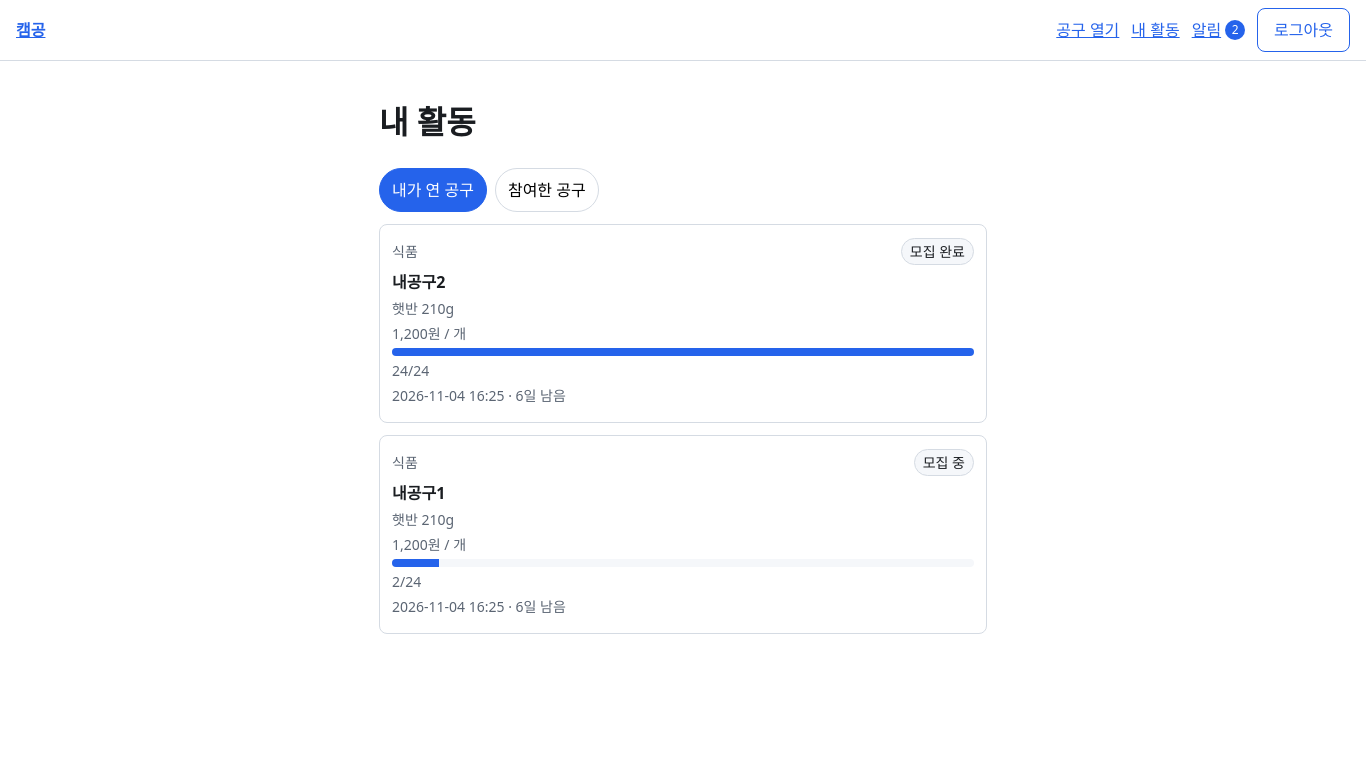
Test: 내 활동 (US5) › 28. 탭1은 내가 연 공구 2개, 탭2는 참여한 공구 5개(내가 연 것 포함), 최신 개설순 + 상태 뱃지
Expected: the heading "내 활동" is shown, [379, 100, 476, 143]
Expected: the heading "내공구2" is shown, [392, 271, 445, 293]
Click the tab "참여한 공구": [547, 190] box [495, 168, 599, 212]
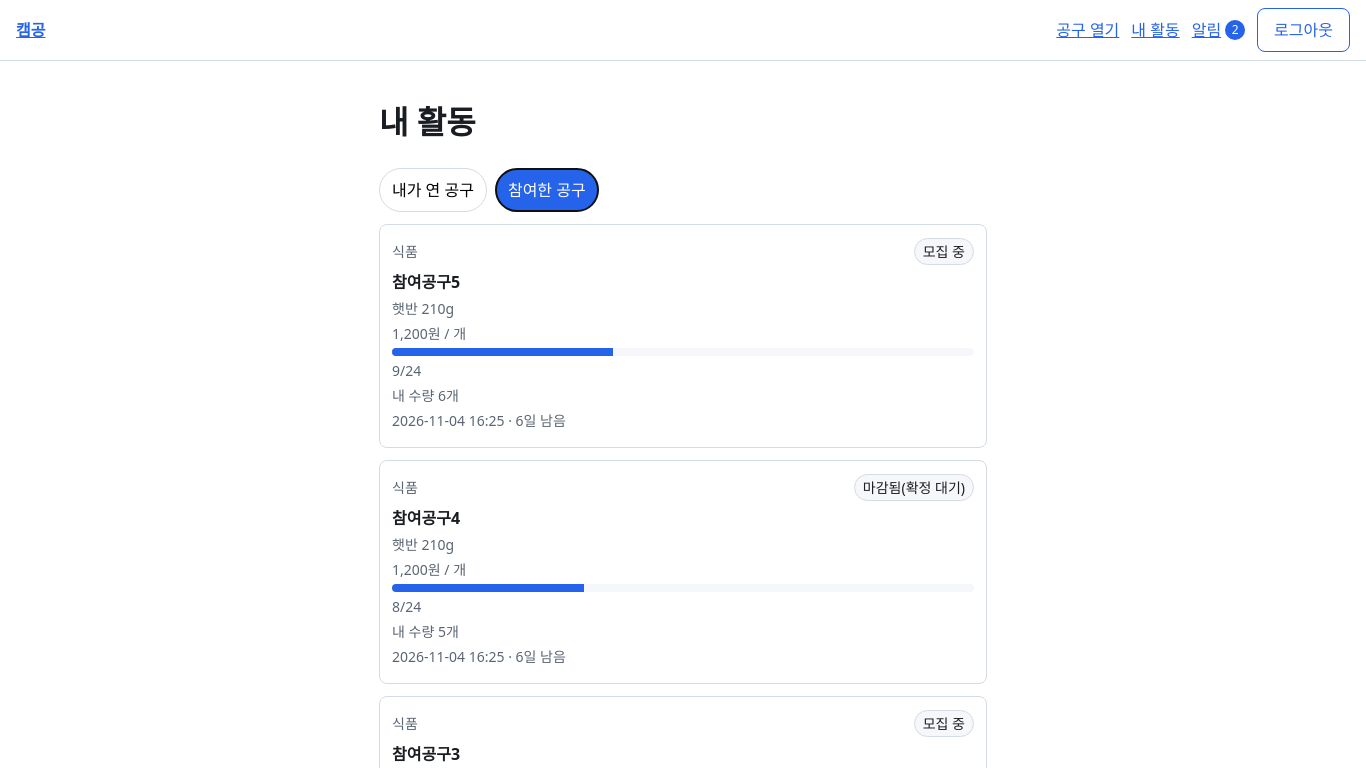
Now the heading "참여공구5" is shown, box [392, 271, 460, 293]
Now the text "마감됨(확정 대기)" is shown, box [854, 474, 974, 501]
Now the text "내 수량 6개" is shown, box [392, 386, 459, 405]
